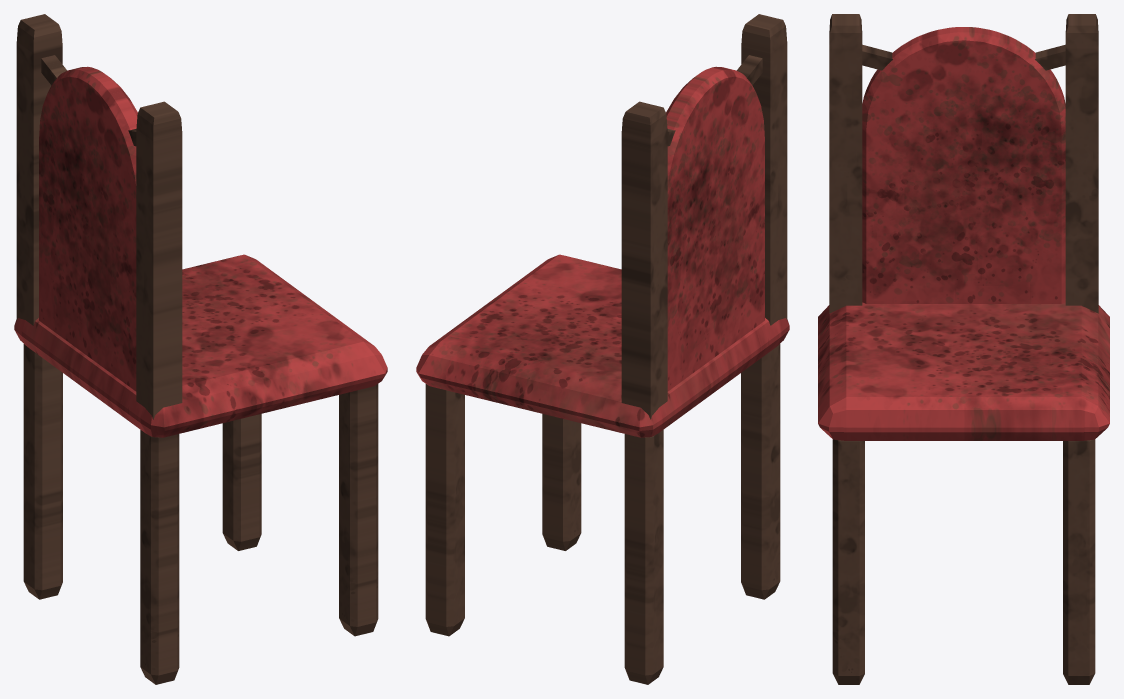
File: ChairShattered.fbx
3 views of the same model, side by side, from view 1: azimuth 30°, elevation 25°; view 2: azimuth 150°, elevation 25°; view 3: azimuth 270°, elevation 25° (orthographic).
Parts seen in each view (by area): view 1: chair piece 1, chair piece 2, chair piece 3, chair piece 7, chair piece 5, chair piece 4, chair piece 6; view 2: chair piece 1, chair piece 3, chair piece 2, chair piece 6, chair piece 7, chair piece 4, chair piece 5; view 3: chair piece 1, chair piece 3, chair piece 2, chair piece 6, chair piece 5.
Part boxes in pixels (box(x1,y1,x2,y2)): chair piece 1: box(16, 14, 182, 377); chair piece 2: box(14, 281, 356, 454); chair piece 3: box(182, 254, 387, 410); chair piece 7: box(23, 355, 62, 599); chair piece 5: box(339, 392, 378, 636); chair piece 4: box(140, 445, 179, 684); chair piece 6: box(222, 414, 261, 550); chair piece 1: box(621, 14, 787, 380); chair piece 3: box(416, 254, 621, 420); chair piece 2: box(556, 266, 789, 449); chair piece 6: box(425, 384, 464, 636); chair piece 7: box(624, 437, 663, 684); chair piece 4: box(741, 361, 780, 599); chair piece 5: box(542, 414, 581, 550); chair piece 1: box(829, 14, 1098, 287); chair piece 3: box(818, 327, 1109, 461); chair piece 2: box(818, 278, 1109, 409); chair piece 6: box(1063, 441, 1095, 684); chair piece 5: box(832, 446, 864, 684).
Bounding box in the file's own units: 43.96 × 100 × 47.14.
1 material, 1 textured.
